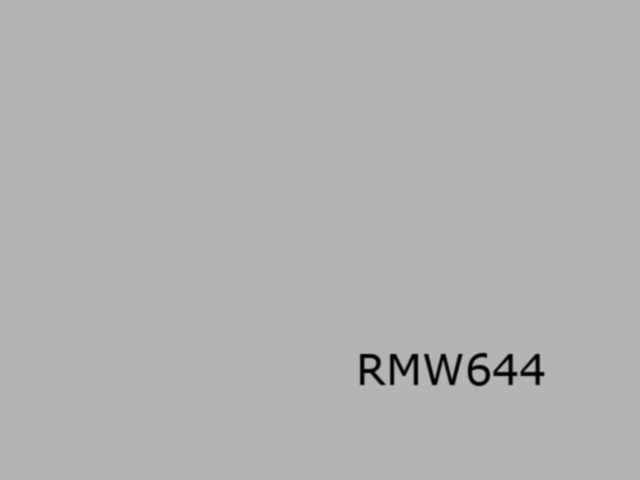OCR_AREA: (352, 349, 550, 390)
